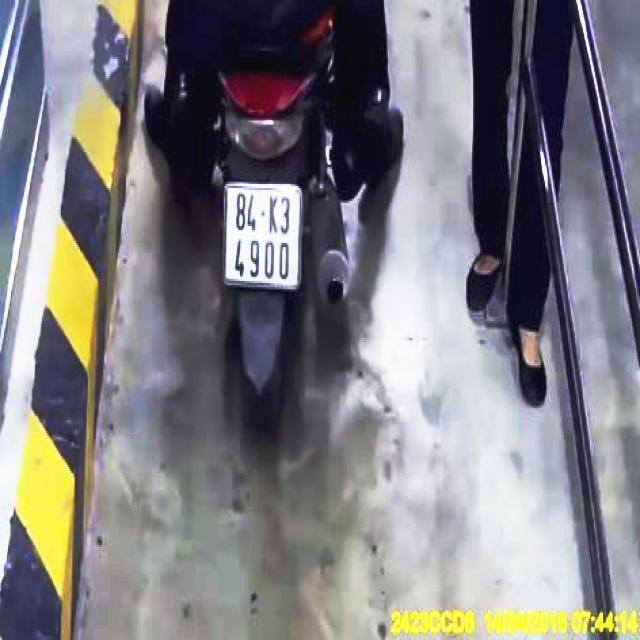license_plate: (224, 185, 301, 288)
